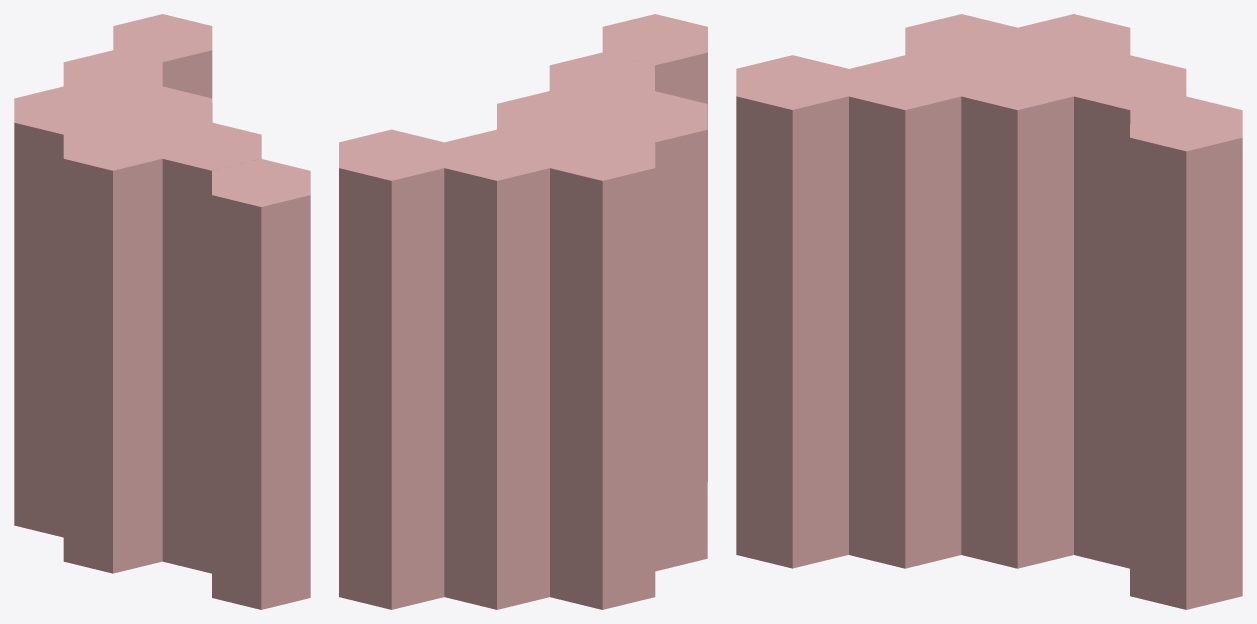
File: level02_mapMovingBridge.fbx
3 views of the same model, side by side, from view 1: azimuth 30°, elevation 25°; view 2: azimuth 150°, elevation 25°; view 3: azimuth 270°, elevation 25° (orthographic). The views are drawn at different scales.
Parts seen in each view (by area): view 1: level02_mapMovingBridge; view 2: level02_mapMovingBridge; view 3: level02_mapMovingBridge.
Part boxes in pixels (x1,y1,x2,y2): level02_mapMovingBridge: [14, 14, 310, 609]; level02_mapMovingBridge: [339, 14, 707, 609]; level02_mapMovingBridge: [736, 14, 1242, 609].
Bounding box in the file's own units: 963 × 1498 × 1500.
